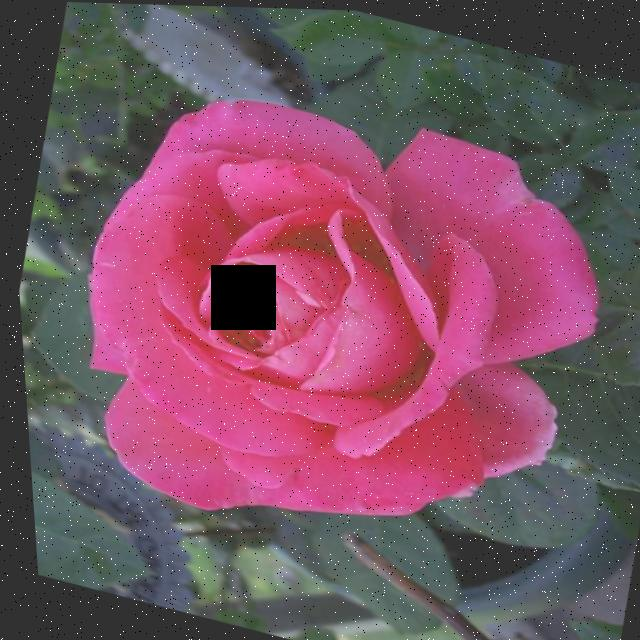rose: (12, 38, 640, 631)
